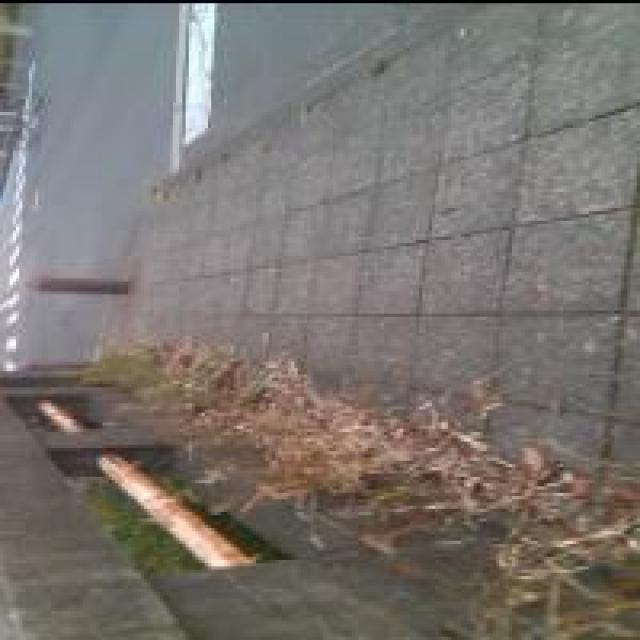Obstacle: (34, 276, 133, 294)
Road: (21, 4, 406, 279), (18, 290, 122, 361)
Sidewalk: (146, 9, 639, 411)
